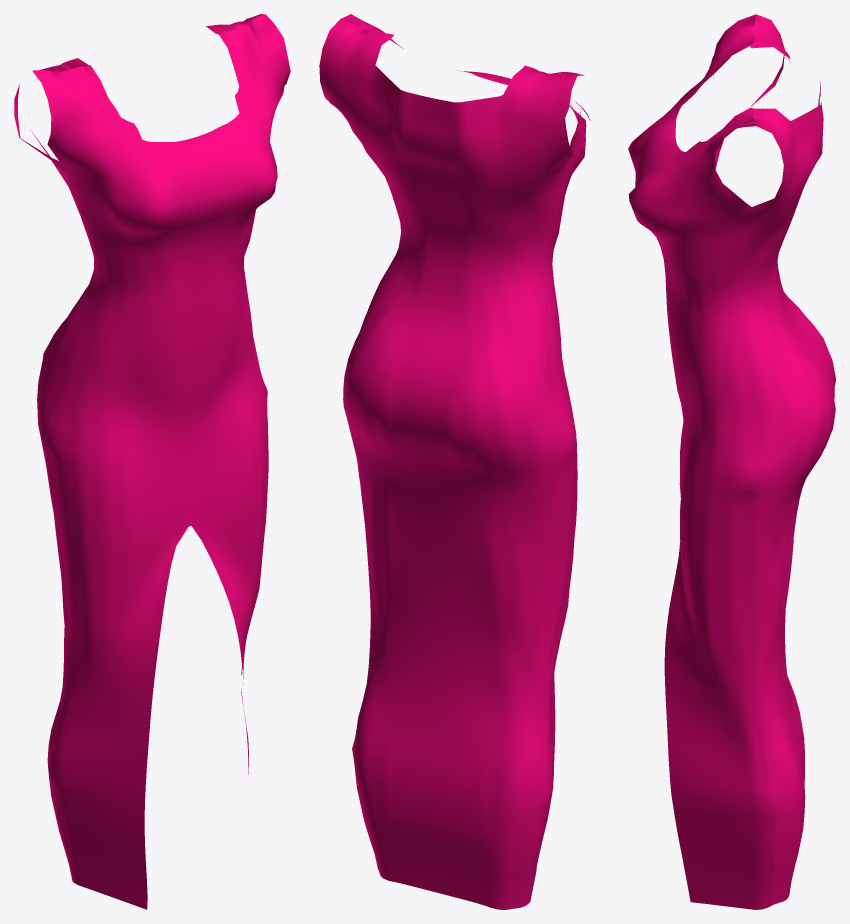
Rendered from Female.gltf.
3 renders of one model, left to right at view 1: azimuth 30°, elevation 25°; view 2: azimuth 150°, elevation 25°; view 3: azimuth 270°, elevation 25°, orthographic. The views are drawn at different scales.
Visible parts, largest first — view 1: Cube; view 2: Cube; view 3: Cube.
Boxes of the visible parts, x1=… form: Cube: x1=14, y1=14, x2=290, y2=909; Cube: x1=319, y1=14, x2=590, y2=909; Cube: x1=628, y1=14, x2=835, y2=909.
Bounding box in the file's own units: 178 × 579 × 134.
